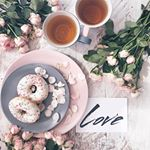cups: (41, 9, 95, 49), (72, 1, 115, 38)
